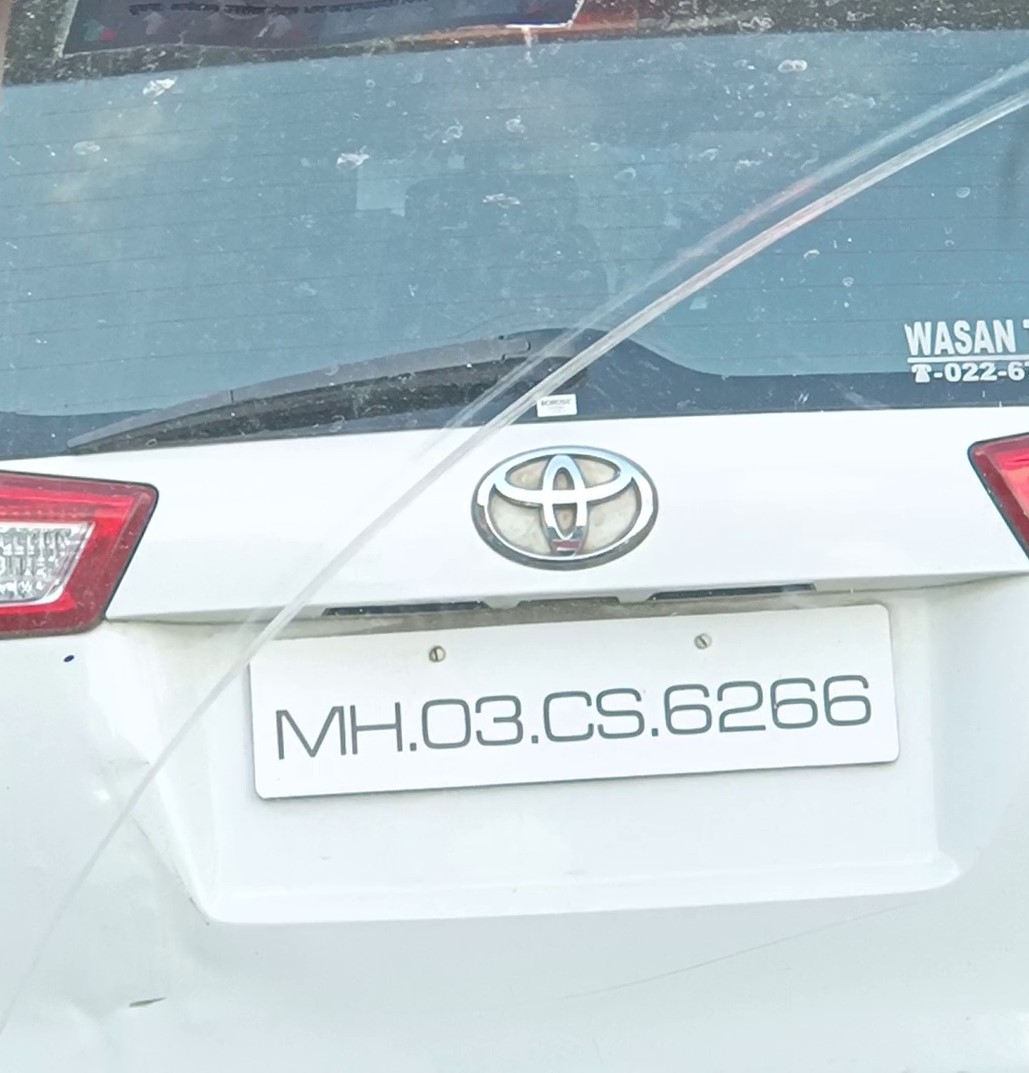MH03CS6266: (246, 599, 898, 798)
